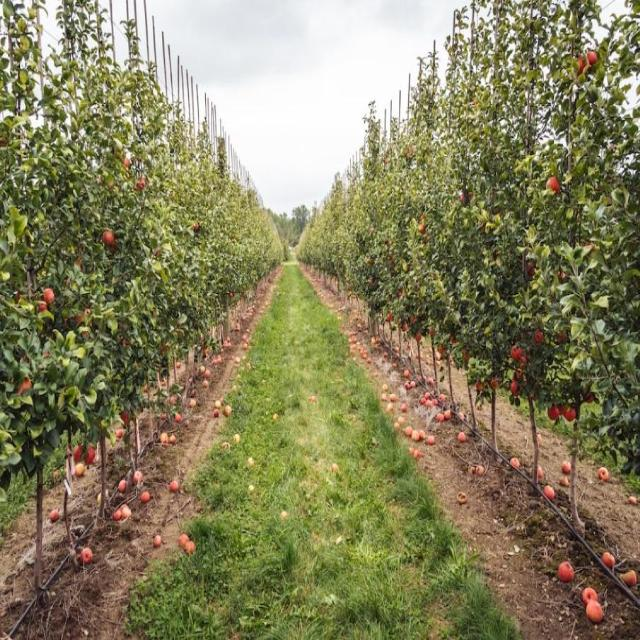row: (96, 264, 573, 640)
